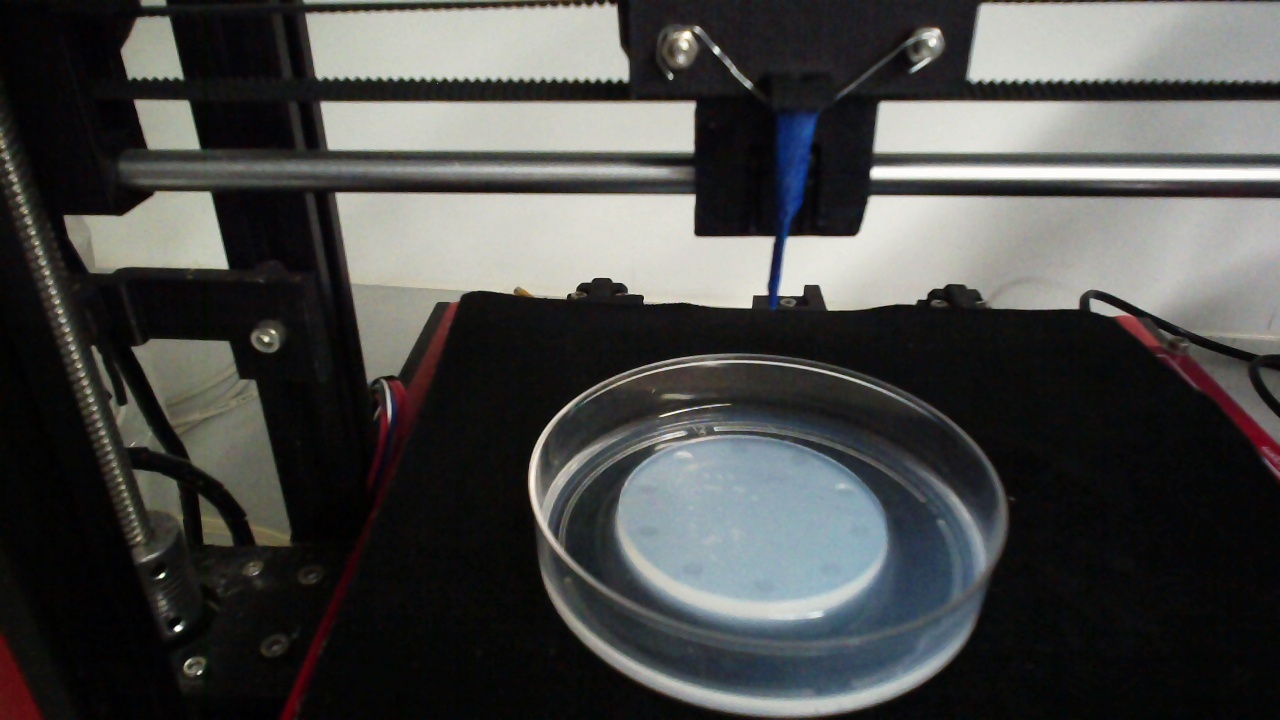groove: (845, 519, 872, 539), (815, 561, 843, 579), (751, 578, 776, 596), (671, 448, 695, 466), (634, 479, 659, 495), (680, 561, 703, 578), (786, 452, 811, 467), (727, 439, 750, 455), (832, 482, 854, 498), (636, 523, 657, 539)
needle: (764, 112, 817, 313)
